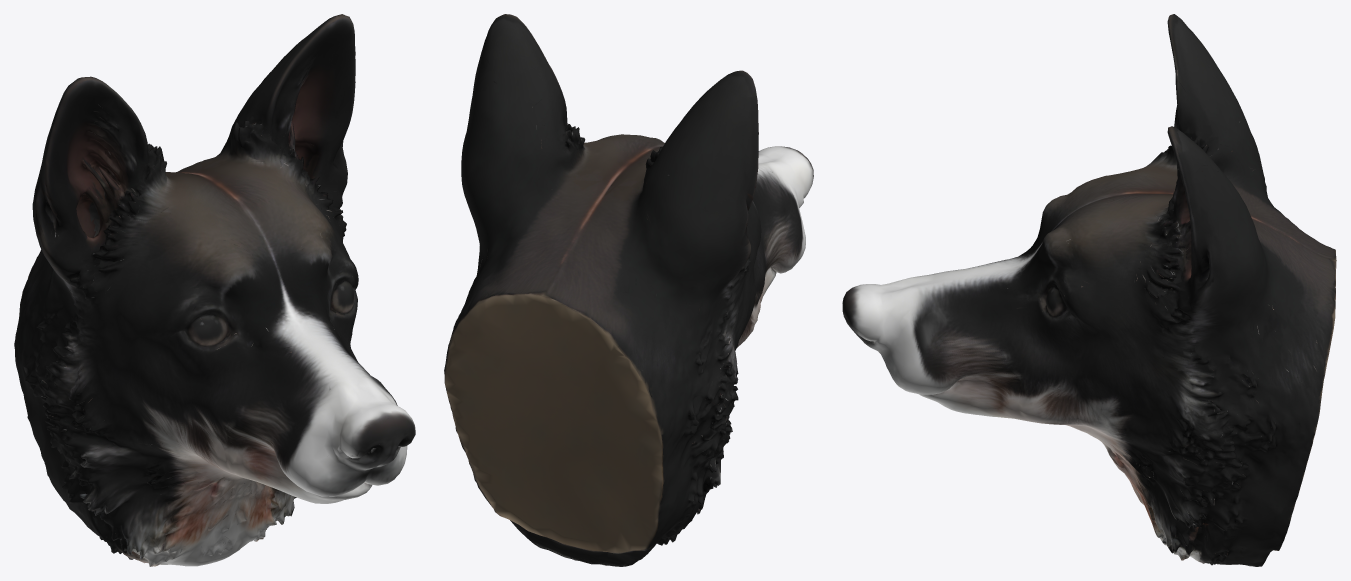
The picture shows the model from 3 angles, left to right: view 1: azimuth 30°, elevation 25°; view 2: azimuth 150°, elevation 25°; view 3: azimuth 270°, elevation 25°; orthographic projection. The views are drawn at different scales.
Size of the model in its own units: 1.17 by 1.91 by 1.79.
Materials: 1 (1 with a texture image).
